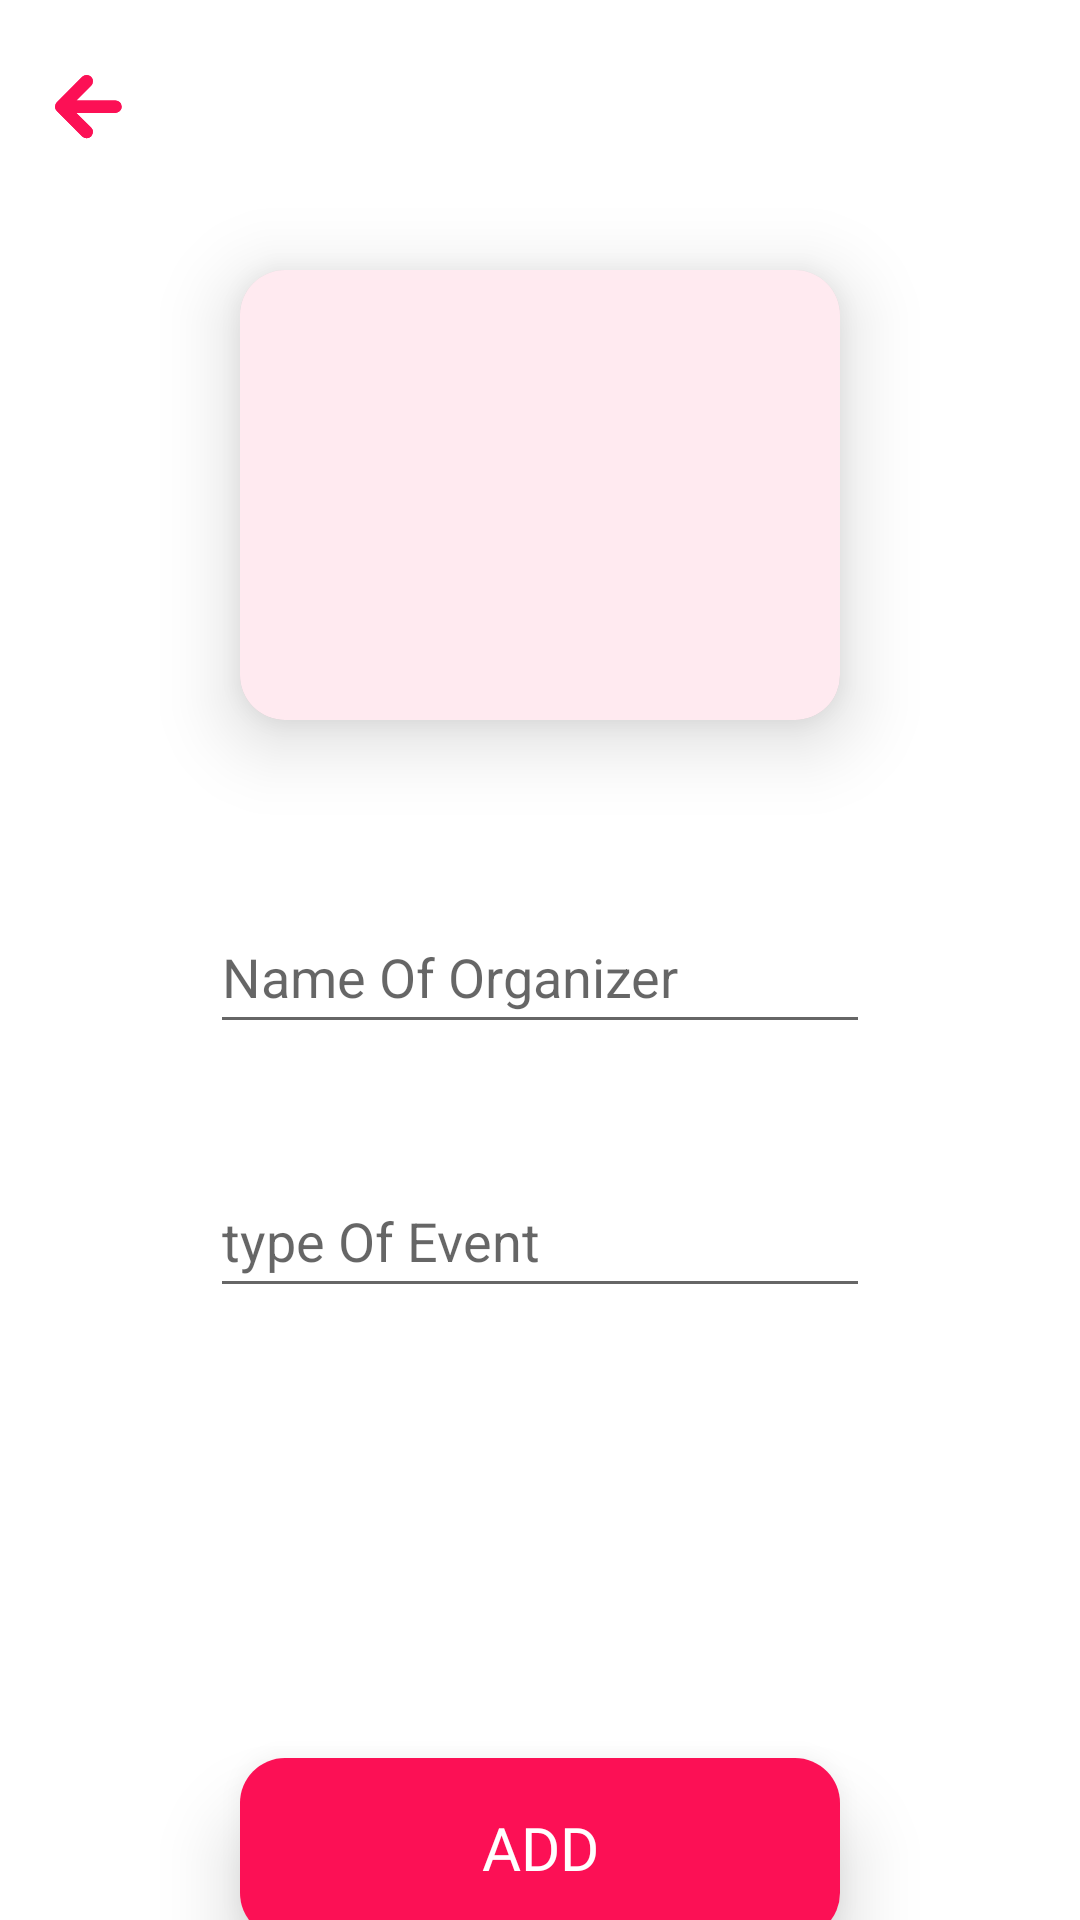

Screen size 1080×1920. Icon name, then its box in pixels as [x1,y1,x2,y2]:
top bar back: [55,75,122,139]
